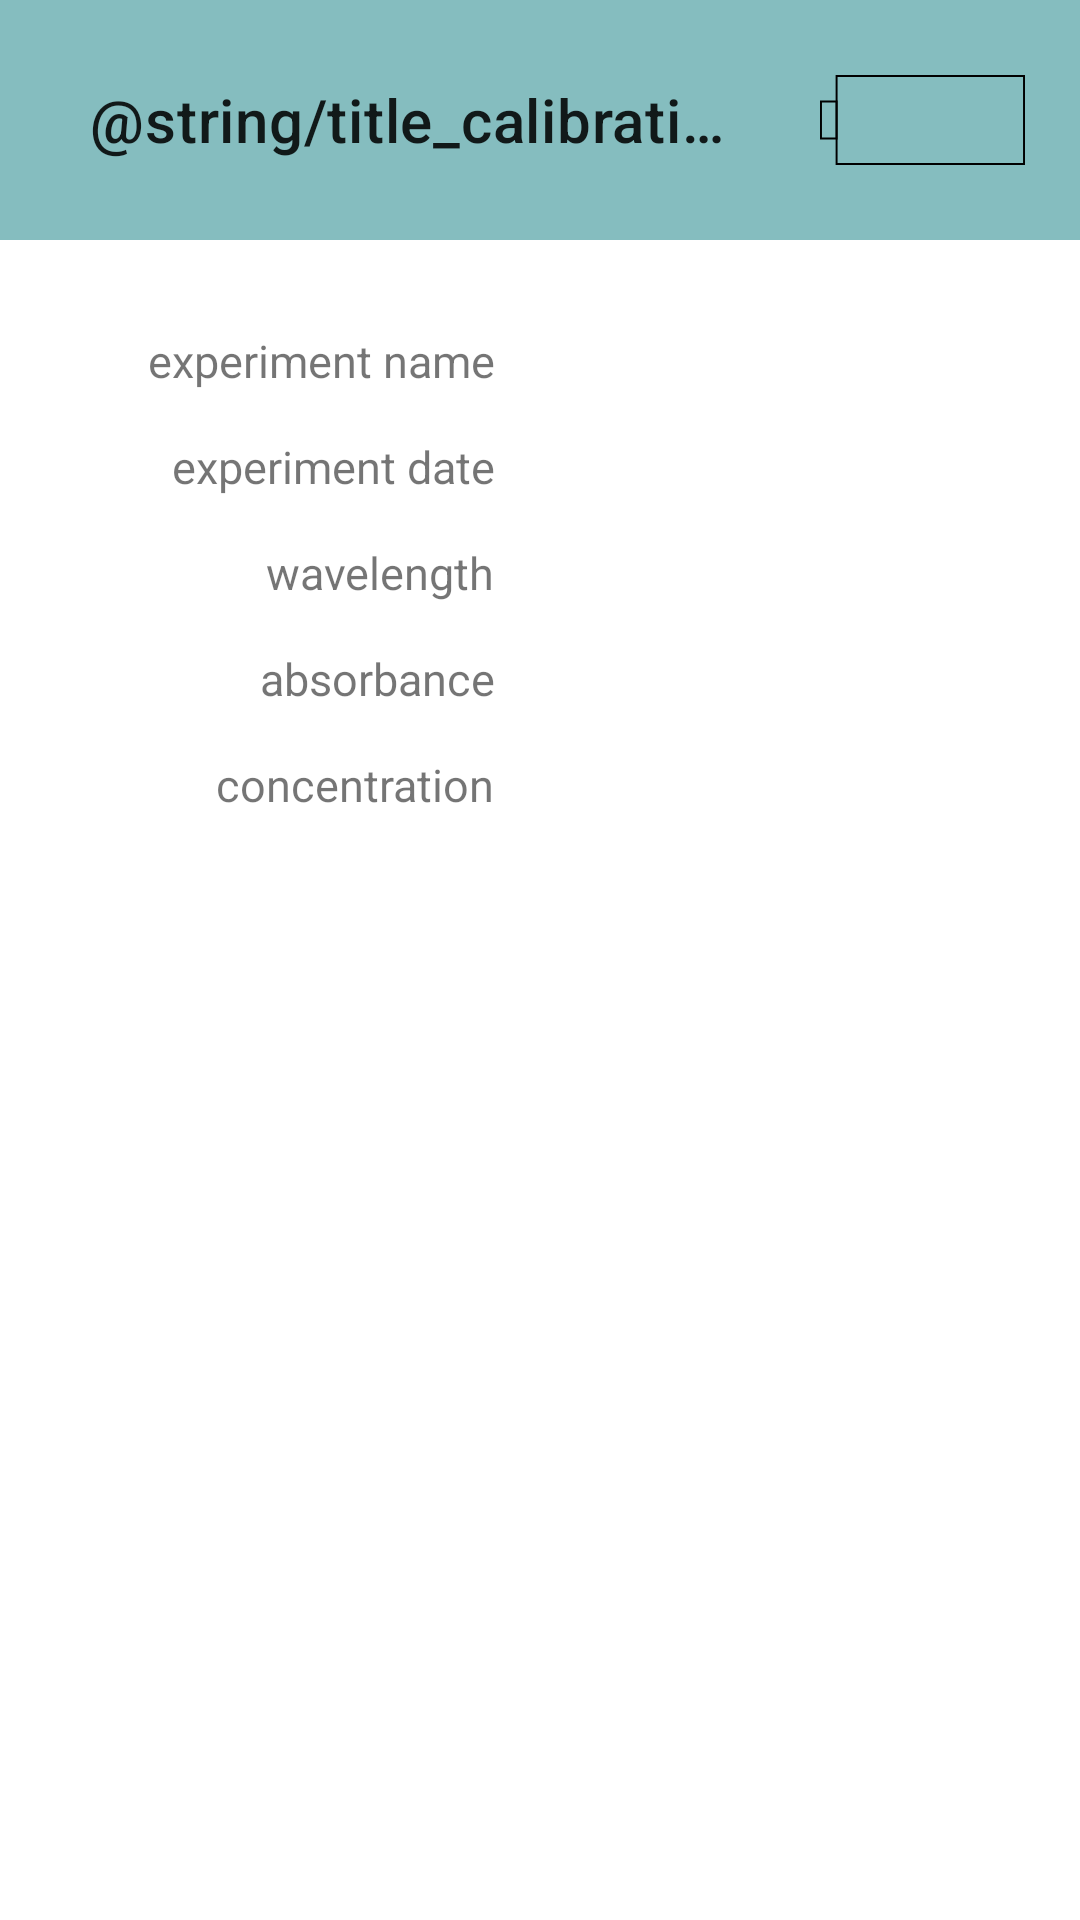

Locate icon controls on the screen. Image size 1080x1920, boxes as (x1, y1, x2, y2).
battery level: (820, 75, 1025, 165)
